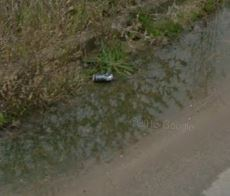trash: (90, 72, 114, 82)
